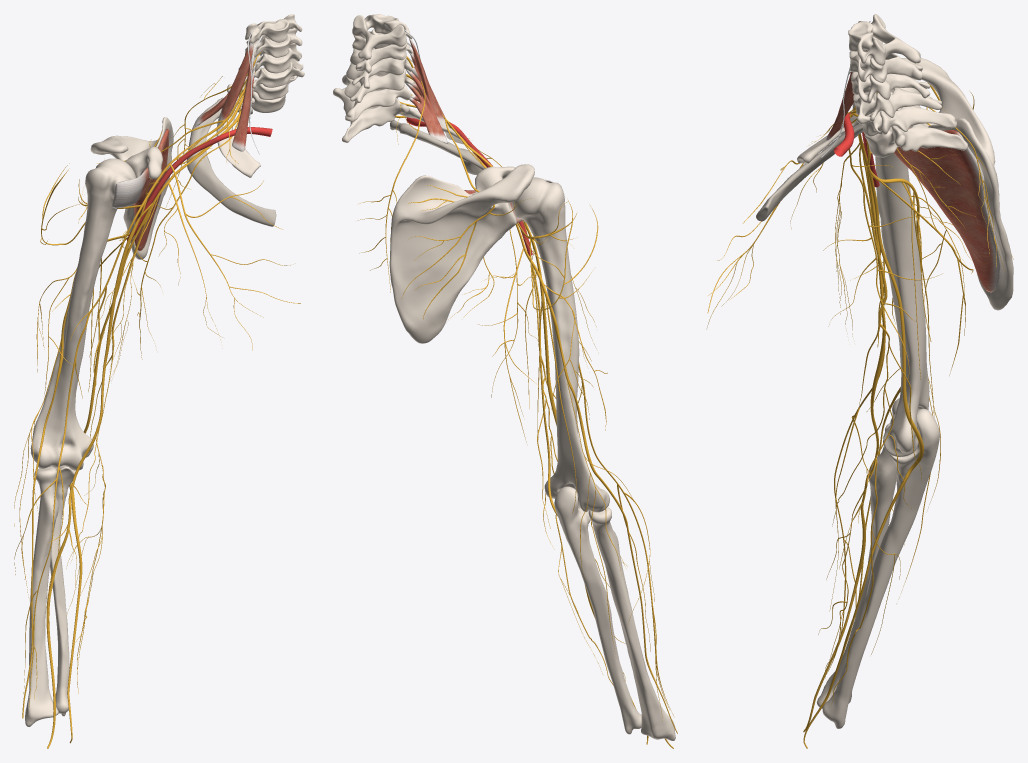
Rendered from brachial-plexus-and-branches.glb.
3 renders of one model, left to right at view 1: azimuth 30°, elevation 25°; view 2: azimuth 150°, elevation 25°; view 3: azimuth 270°, elevation 25°, orthographic. The views are drawn at different scales.
Parts seen in each view (by area): view 1: Humerus.r, Radius.r, Scapula.r, Ulna.r, Rib (2nd).r, Median nerve.r, Subscapularis muscle.r, Medial antebrachial cutaneous nerve.r, Ulnar nerve.r, Musculocutaneus nerve - lateral antebrachial cutaneous nerve, Rib (1st).r, Musculocutaneus nerve.r (+16 smaller); view 2: Scapula.r, Humerus.r, Ulna.r, Radius.r, Radial nerve.r, Cervical vertebra (C3), Thoracic vertebra (T1), Cervical vertebra (C7), Medial antebrachial cutaneous nerve.r, Rib (2nd).r, Cervical vertebra (C6), Suprascapular nerve.r (+11 smaller); view 3: Humerus.r, Ulna.r, Subscapularis muscle.r, Scapula.r, Radius.r, Medial antebrachial cutaneous nerve.r, Ulnar nerve.r, Thoracic vertebra (T1), Cervical vertebra (C3), Median nerve.r, Cervical vertebra (C7), Cervical vertebra (C6) (+11 smaller).
Boxes of the visible parts, x1,y1,x2,y2 form: Humerus.r: (30, 158, 136, 470); Radius.r: (25, 466, 58, 726); Scapula.r: (90, 117, 173, 259); Ulna.r: (49, 465, 75, 716); Rib (2nd).r: (186, 97, 276, 226); Median nerve.r: (46, 217, 140, 748); Subscapularis muscle.r: (112, 128, 169, 250); Medial antebrachial cutaneous nerve.r: (66, 200, 155, 693); Ulnar nerve.r: (67, 203, 153, 743); Musculocutaneus nerve - lateral antebrachial cutaneous nerve: (14, 462, 63, 706); Rib (1st).r: (216, 93, 260, 177); Musculocutaneus nerve.r: (58, 196, 148, 462); Scapula.r: (389, 164, 534, 343); Humerus.r: (512, 177, 609, 512); Ulna.r: (554, 486, 641, 734); Radius.r: (588, 507, 675, 740); Radial nerve.r: (516, 223, 597, 513); Cervical vertebra (C3): (352, 14, 412, 60); Thoracic vertebra (T1): (333, 87, 409, 142); Cervical vertebra (C7): (342, 75, 411, 121); Medial antebrachial cutaneous nerve.r: (523, 221, 626, 684); Rib (2nd).r: (390, 120, 484, 175); Cervical vertebra (C6): (346, 63, 414, 102); Suprascapular nerve.r: (401, 117, 531, 319); Humerus.r: (875, 87, 929, 456); Ulna.r: (822, 408, 939, 728); Subscapularis muscle.r: (852, 102, 1001, 292); Scapula.r: (852, 57, 1013, 310); Radius.r: (816, 423, 896, 708); Medial antebrachial cutaneous nerve.r: (818, 146, 922, 706); Ulnar nerve.r: (803, 148, 923, 748); Thoracic vertebra (T1): (864, 108, 967, 157); Cervical vertebra (C3): (848, 14, 920, 65); Median nerve.r: (803, 169, 885, 732); Cervical vertebra (C7): (862, 92, 956, 136); Cervical vertebra (C6): (853, 87, 941, 123).
Bounding box in the file's own units: 0.3307 × 0.681 × 0.2181.
Materials: 20 (2 with a texture image).
